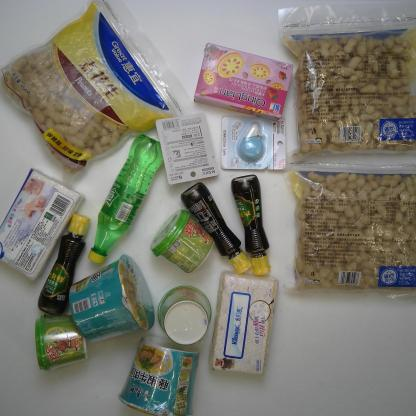Dessert: (192, 39, 294, 123)
Dried Food: (0, 0, 205, 193), (274, 0, 416, 175), (276, 140, 416, 312)
Drink: (85, 132, 170, 266)
Instant Drink: (147, 206, 217, 276), (31, 312, 92, 374), (157, 282, 214, 348)
Instant Noodles: (64, 251, 159, 345), (115, 330, 202, 416)
Seasoner: (178, 178, 255, 277), (35, 211, 92, 320), (229, 172, 274, 279)
Stationery: (150, 110, 220, 188), (217, 113, 289, 174)
Tissue: (0, 164, 92, 284), (205, 266, 282, 378)
